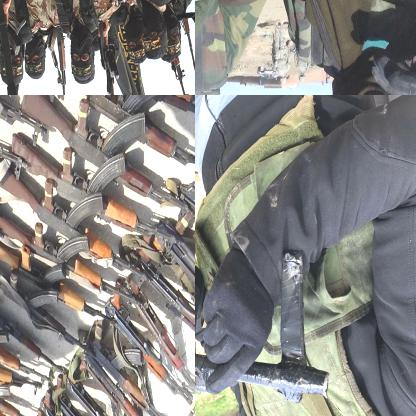rifle: (23, 95, 193, 221), (195, 0, 415, 94), (10, 136, 173, 256), (0, 167, 154, 286), (0, 209, 140, 307), (38, 95, 194, 182), (0, 228, 118, 328), (102, 299, 194, 415), (0, 249, 96, 355), (124, 276, 194, 415), (91, 337, 185, 415), (0, 278, 64, 373), (84, 353, 168, 415), (149, 264, 194, 373), (102, 95, 194, 137), (64, 373, 140, 415), (50, 376, 119, 415), (0, 0, 24, 94), (43, 16, 71, 94), (93, 25, 124, 94), (0, 364, 40, 415), (166, 53, 192, 94), (179, 8, 194, 75), (42, 400, 92, 415)
